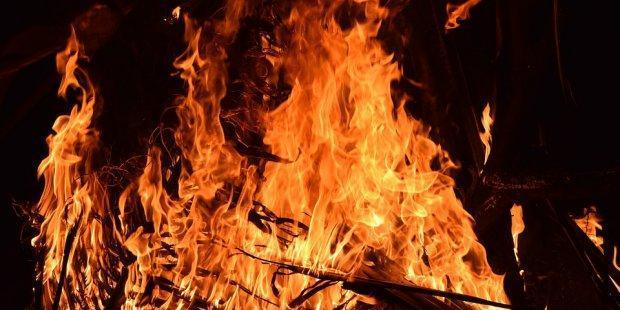fire: (3, 0, 615, 307)
